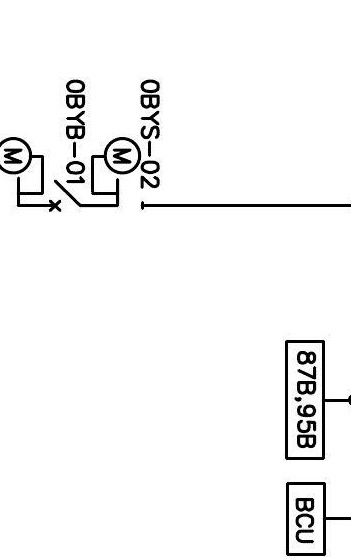115_1way_ds_w_motor: (91, 136, 145, 210)
115_breaker: (48, 179, 82, 213)
BCU: (285, 481, 327, 557)
